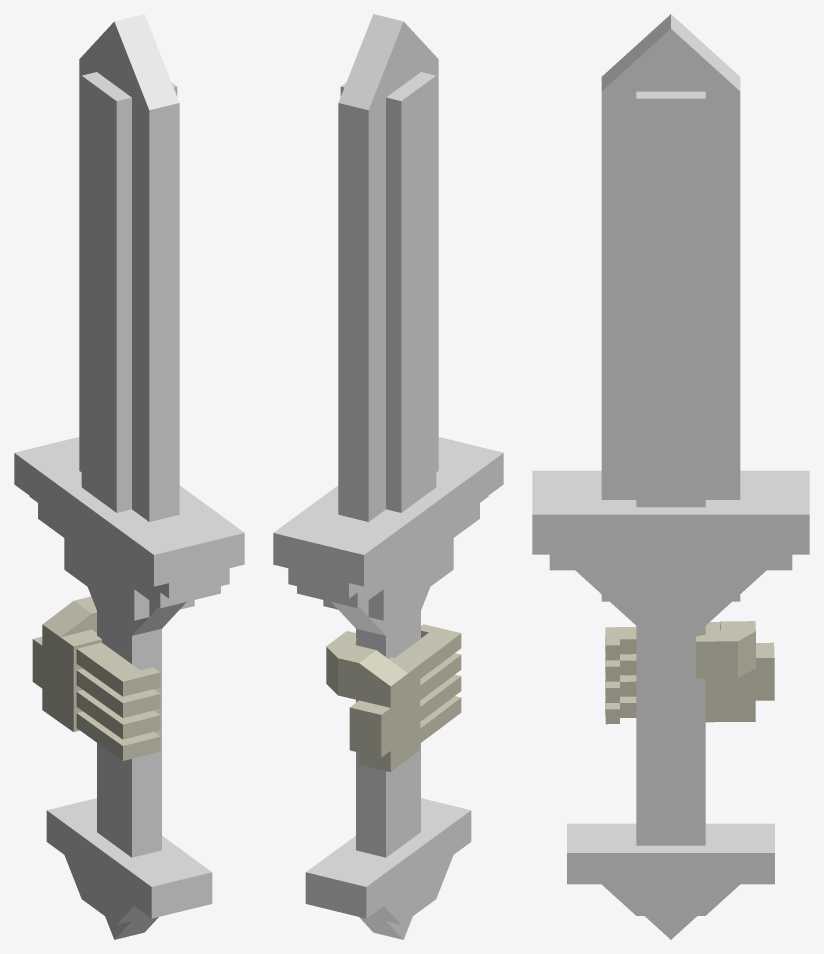
The model's file is SkeleHandsSword.fbx.
3 renders of one model, left to right at view 1: azimuth 30°, elevation 25°; view 2: azimuth 150°, elevation 25°; view 3: azimuth 270°, elevation 25°, orthographic.
Parts seen in each view (by area): view 1: SkeleHandsSword; view 2: SkeleHandsSword; view 3: SkeleHandsSword.
Boxes of the visible parts, x1,y1,x2,y2 form: SkeleHandsSword: [14, 14, 244, 939]; SkeleHandsSword: [273, 14, 503, 939]; SkeleHandsSword: [532, 14, 809, 939].
Size of the model in its own units: 15 by 145 by 40.
